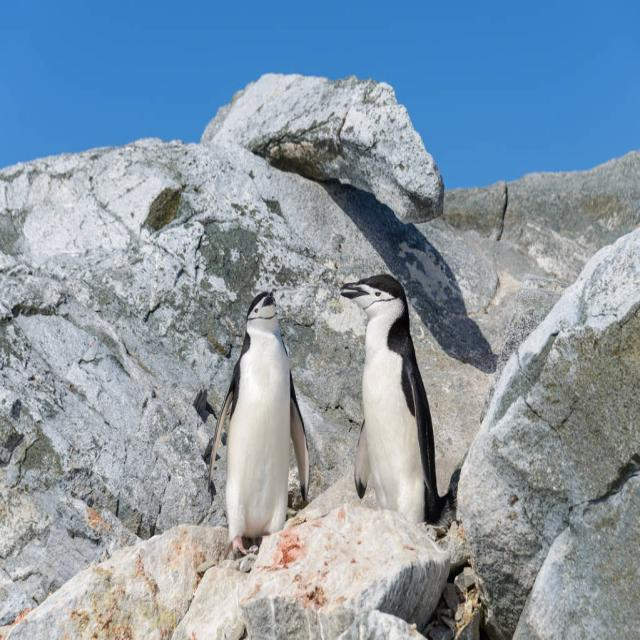Penguins: (344, 267, 444, 531), (214, 281, 302, 560)
